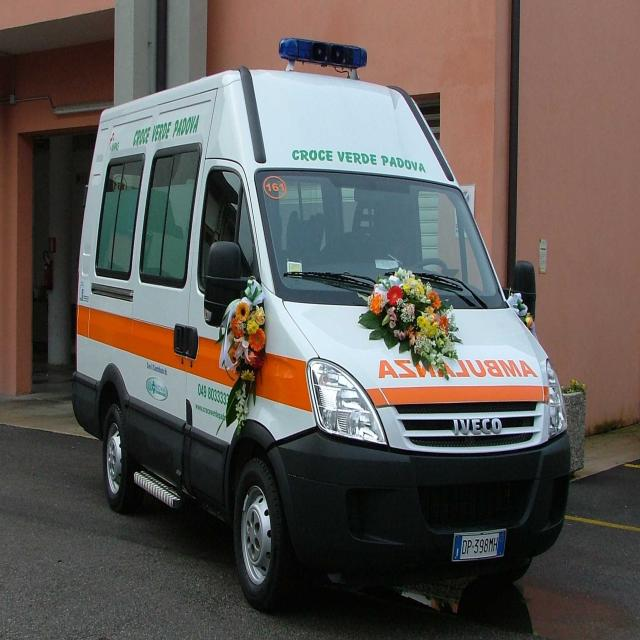emergency-vehicle: (77, 64, 578, 623)
